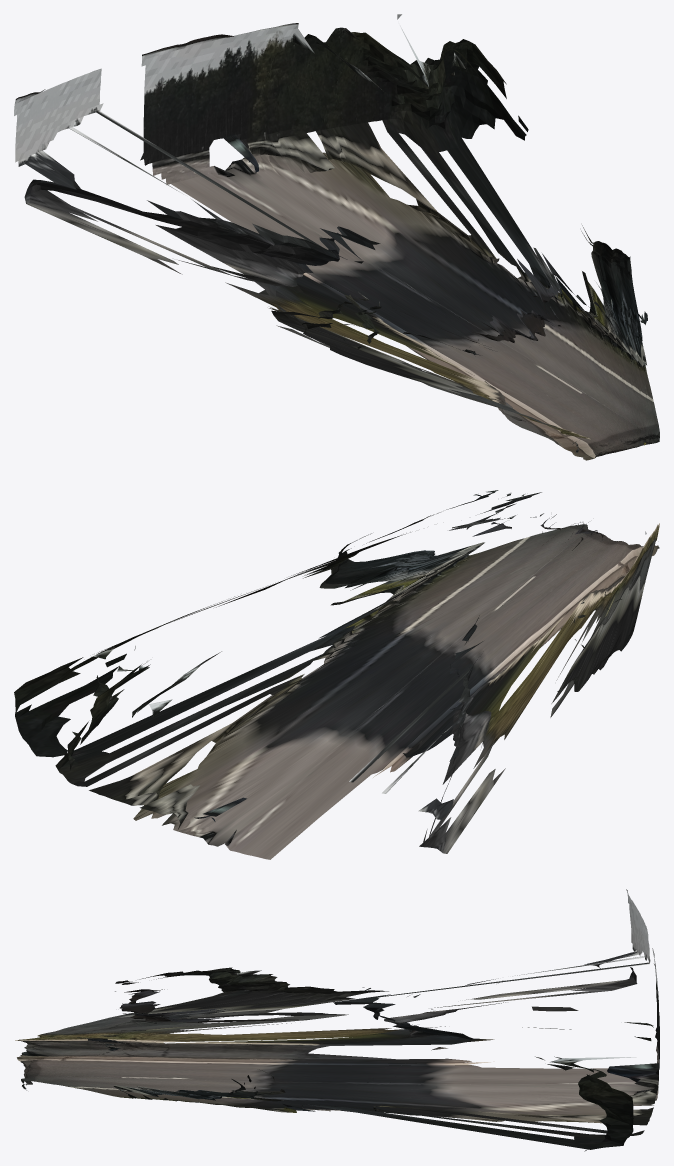
3 renders of one model, top to bottom at view 1: azimuth 30°, elevation 25°; view 2: azimuth 150°, elevation 25°; view 3: azimuth 270°, elevation 25°, orthographic. The views are drawn at different scales.
Parts seen in each view (by area): view 1: defaultobject; view 2: defaultobject; view 3: defaultobject.
Boxes of the visible parts, bbox=[...] form: defaultobject: bbox=[14, 14, 659, 460]; defaultobject: bbox=[14, 490, 659, 859]; defaultobject: bbox=[15, 889, 659, 1151].
Bounding box in the file's own units: 28.88 × 8.57 × 44.82.
Materials: 1 (1 with a texture image).
